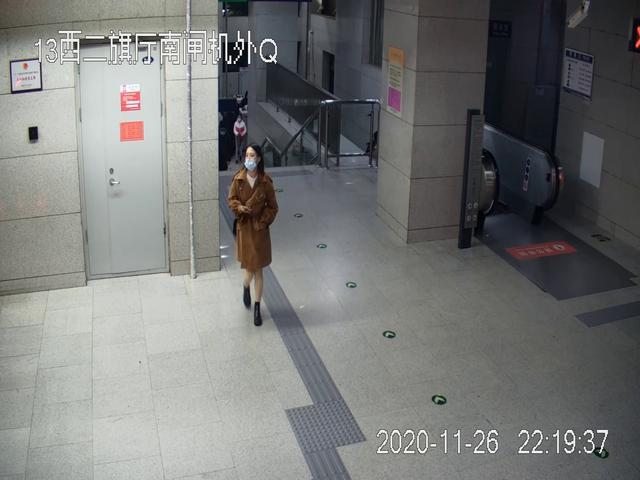person: (228, 143, 280, 328)
